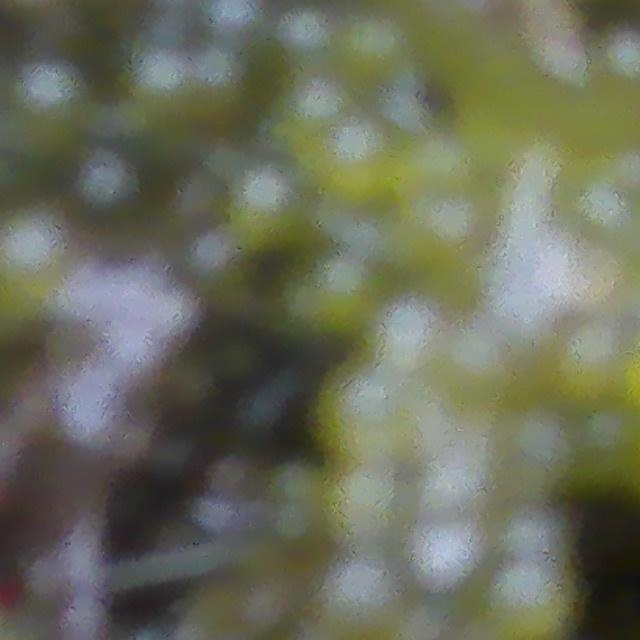SeaGrape: (229, 168, 297, 245), (574, 401, 640, 478), (444, 325, 512, 396), (0, 208, 65, 281), (15, 60, 80, 120), (77, 152, 135, 210)
